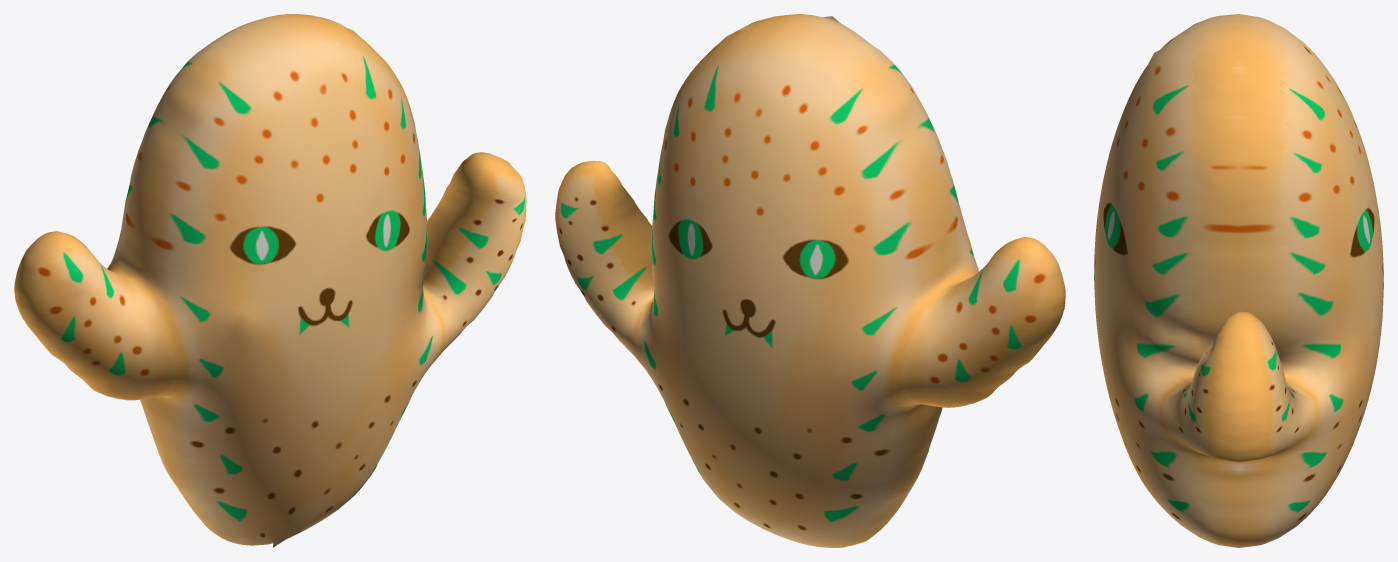
File: Cactus34.9919c91e.glb
3 renders of one model, left to right at view 1: azimuth 30°, elevation 25°; view 2: azimuth 150°, elevation 25°; view 3: azimuth 270°, elevation 25°, orthographic. The views are drawn at different scales.
Bounding box in the file's own units: 5.24 × 5.06 × 2.56.
Materials: 1 (1 with a texture image).
